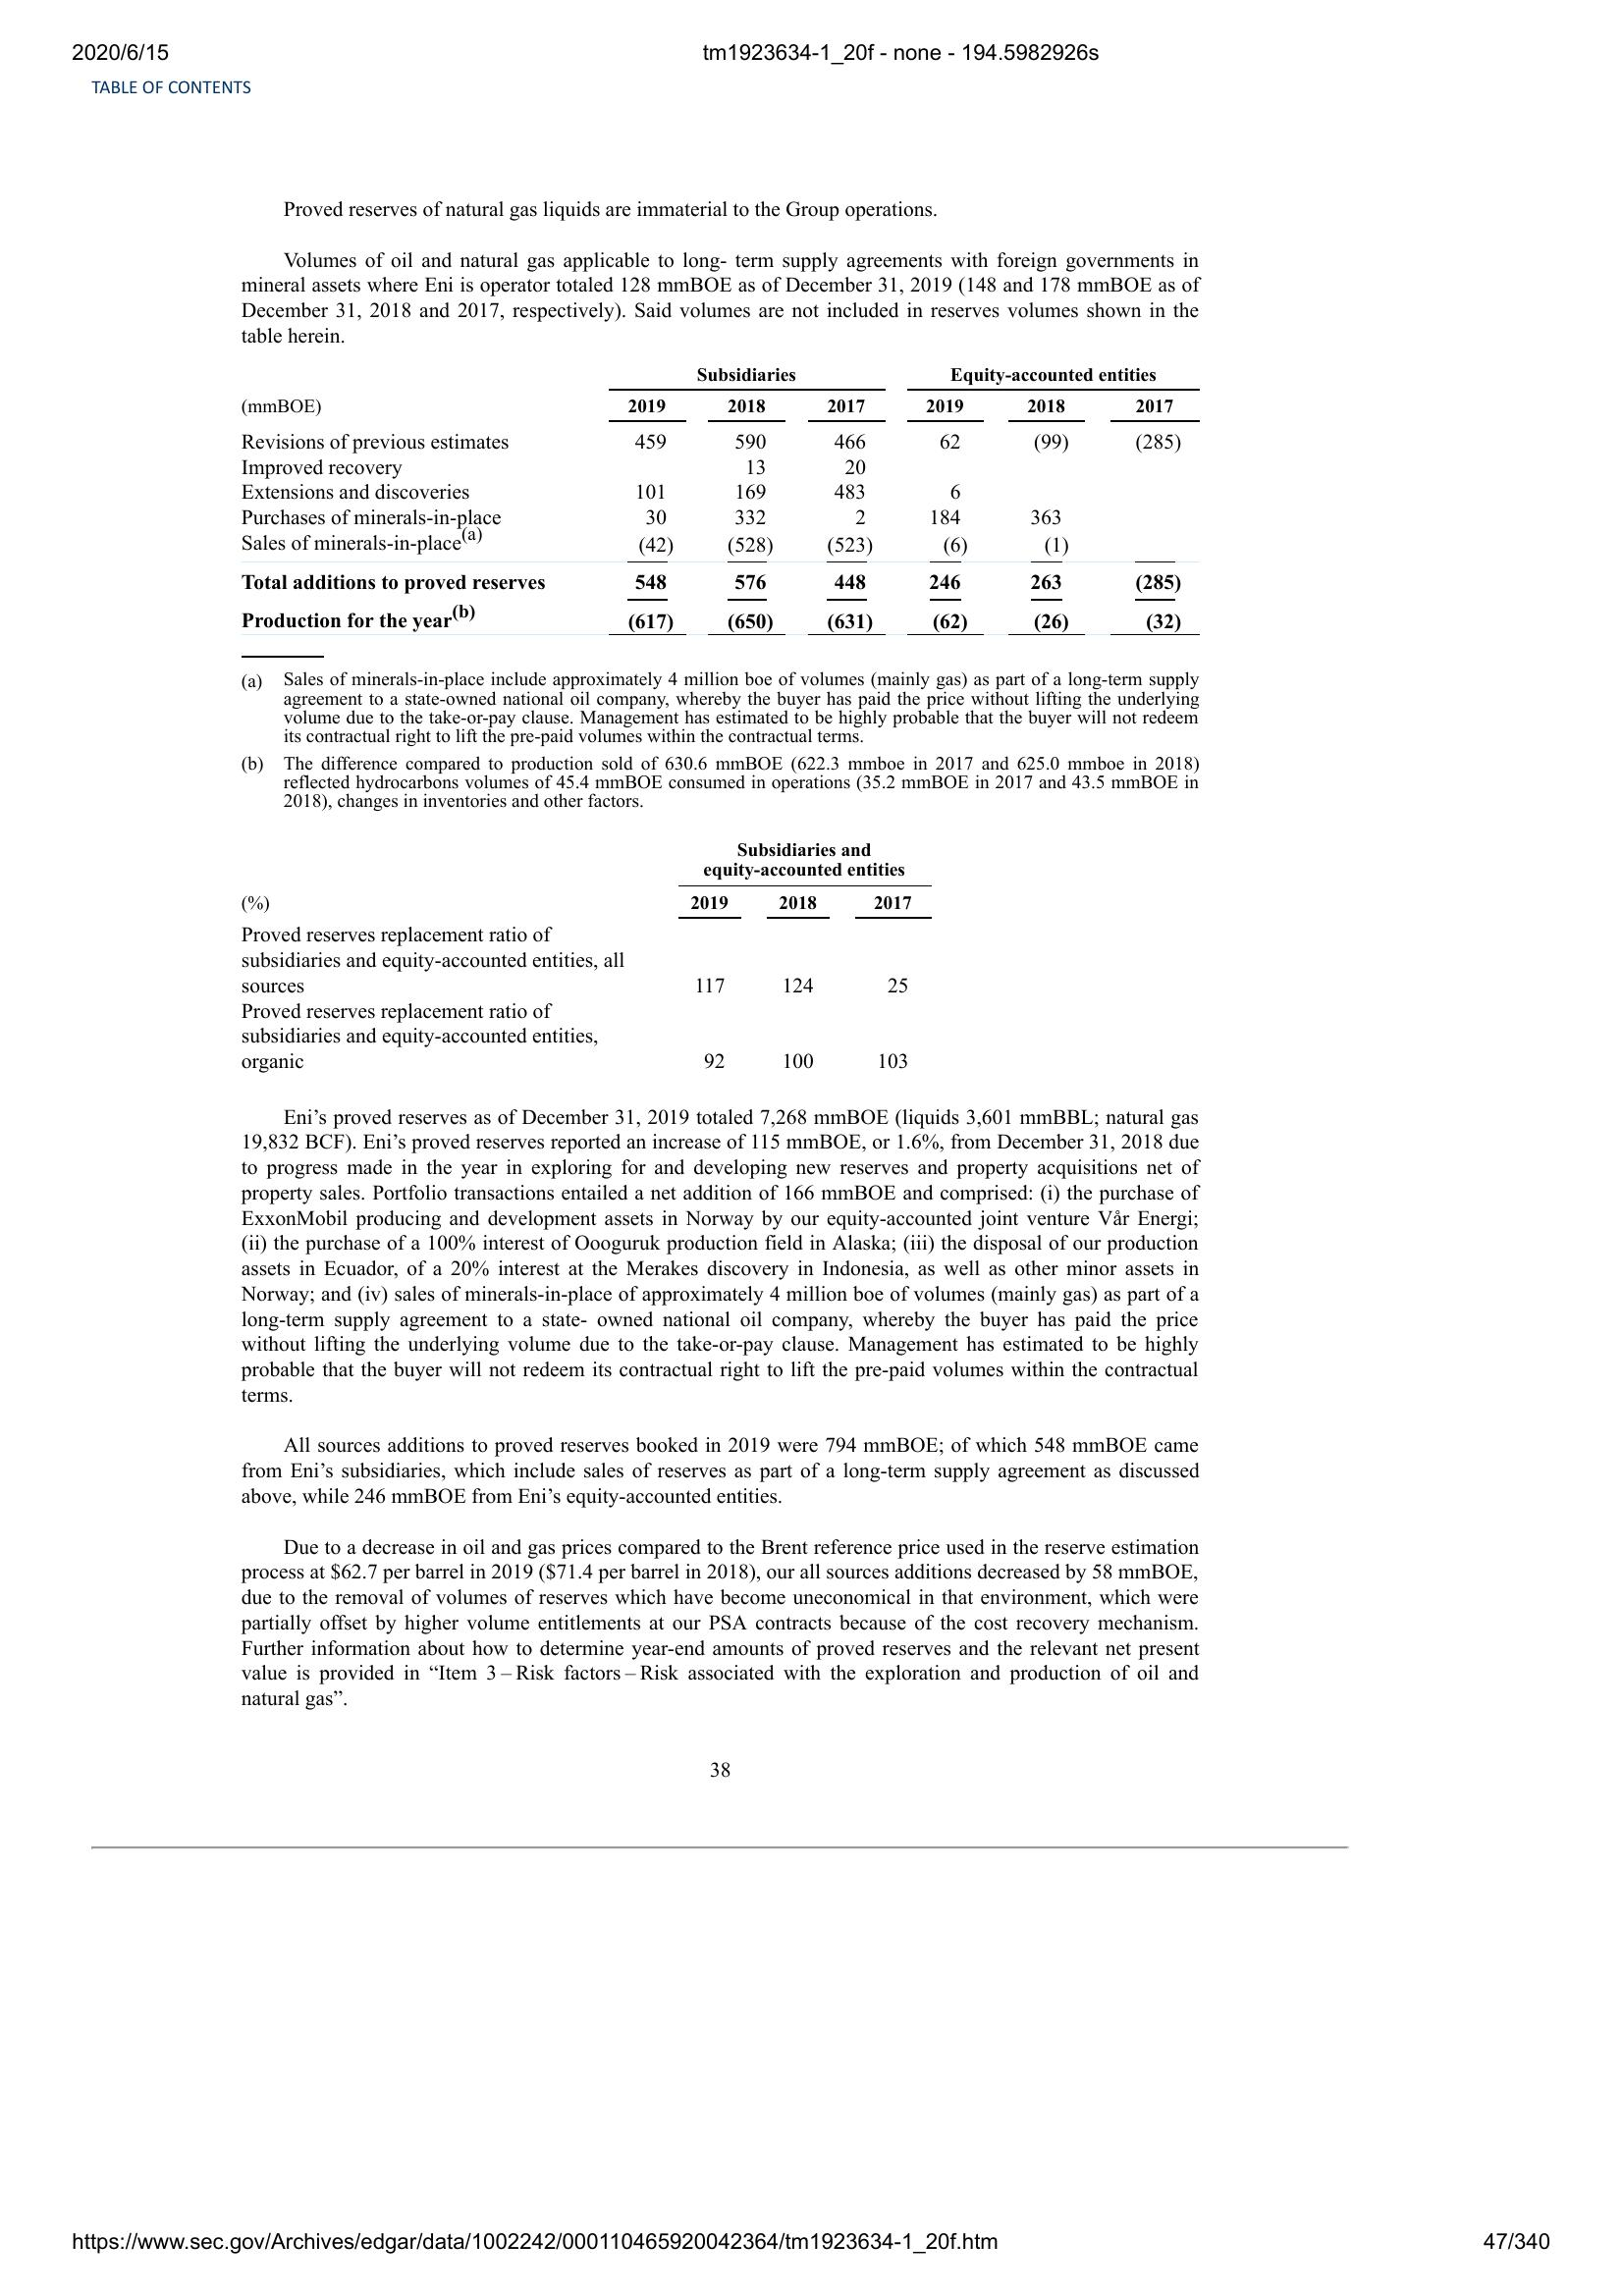table: (235, 355, 1200, 642), (230, 820, 941, 1081)
